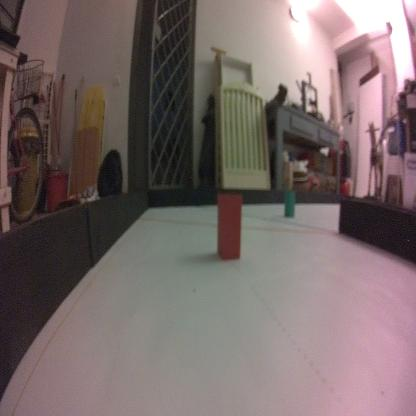green: (284, 191, 296, 219)
red: (216, 186, 243, 264)
